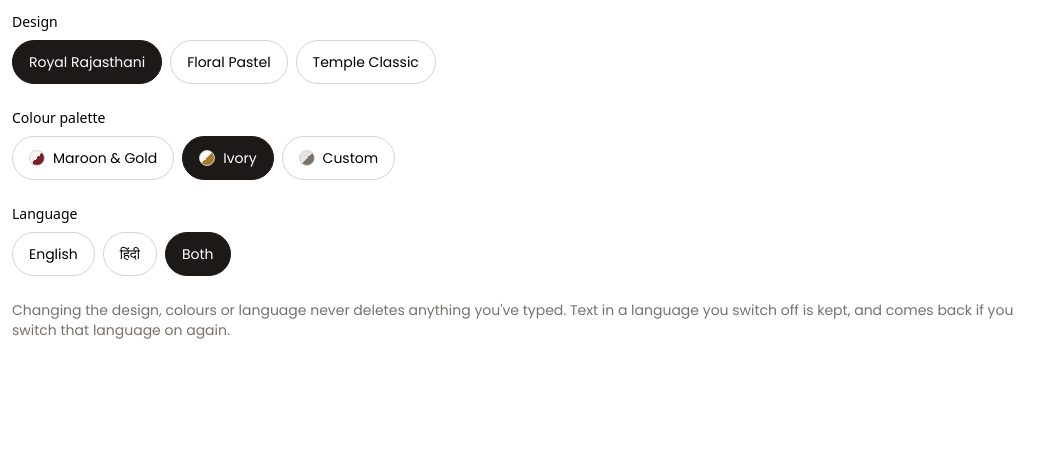
TemplateStep › custom colours › choosing Custom seeds the colours from the current palette
Click the button "Custom": [338, 158] box [282,136,395,180]
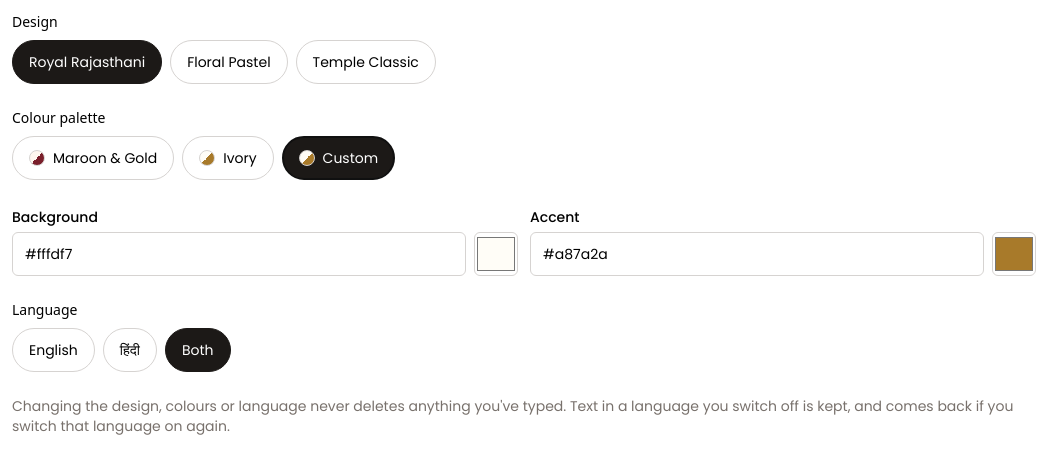
Expected: the field labelled "Background" holds "#fffdf7", [12,232,466,276]
Expected: the field labelled "Accent" holds "#a87a2a", [530,232,984,276]
